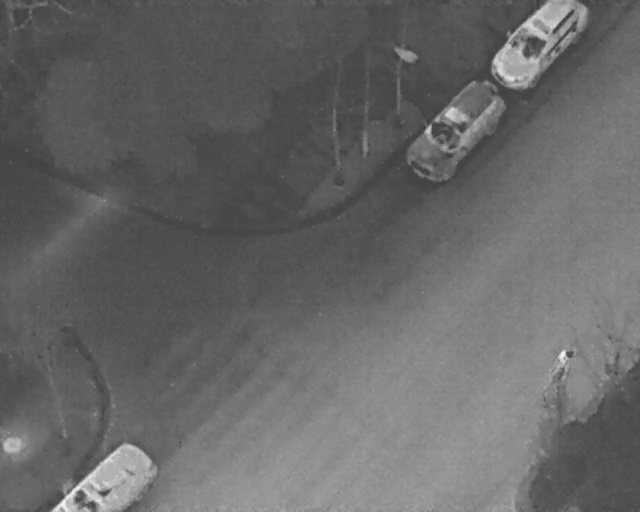Car: (400, 72, 513, 192), (37, 433, 157, 512), (490, 0, 592, 91)
Person: (546, 346, 576, 395)
